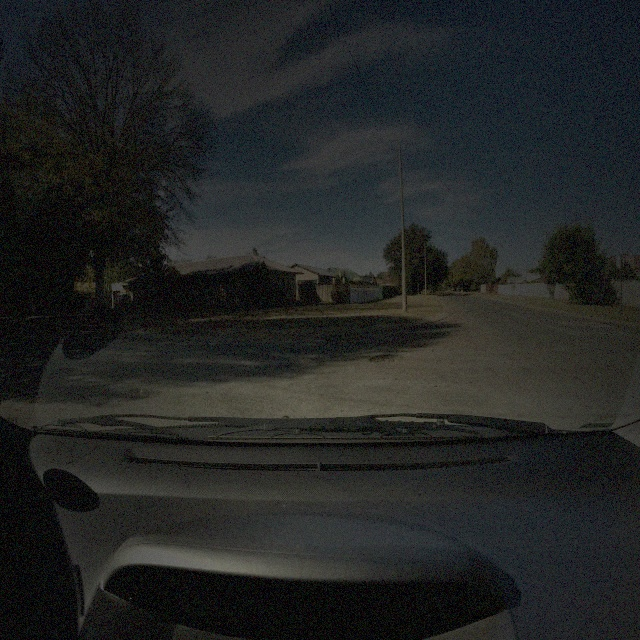pothole: (368, 352, 404, 365)
